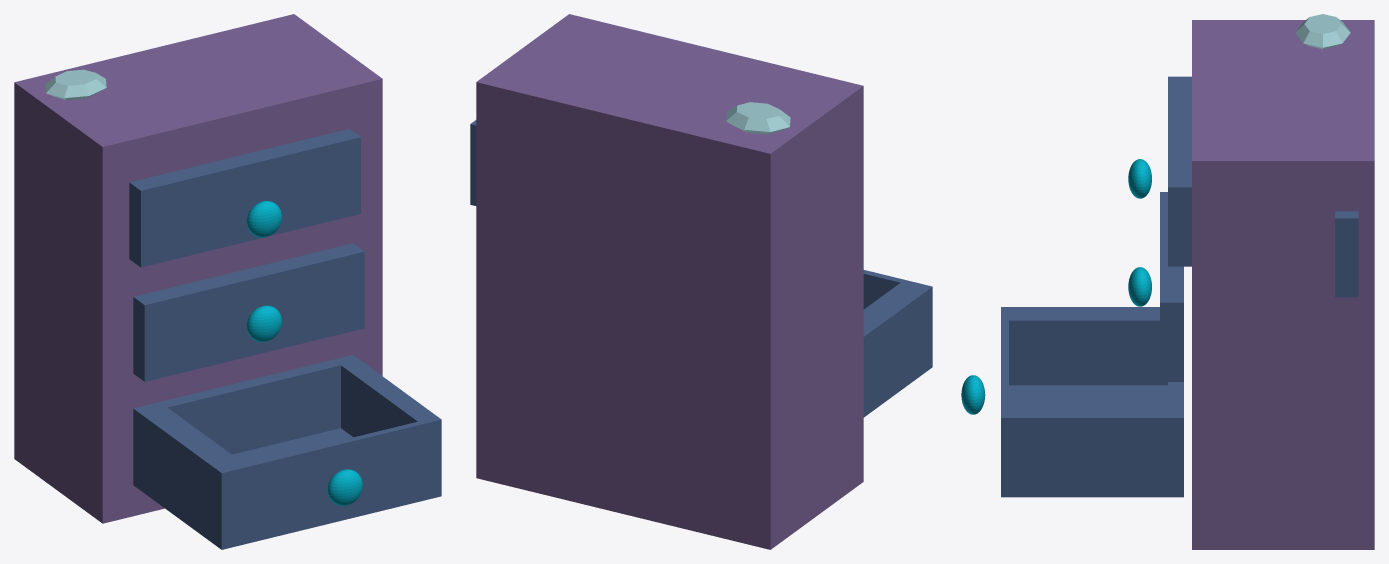
File: Side Table.glb
3 renders of one model, left to right at view 1: azimuth 30°, elevation 25°; view 2: azimuth 150°, elevation 25°; view 3: azimuth 270°, elevation 25°, orthographic. The views are drawn at different scales.
Parts seen in each view (by area): view 1: Mesh_Mesh_head_geo.001_lambert2SG.001; view 2: Mesh_Mesh_head_geo.001_lambert2SG.001; view 3: Mesh_Mesh_head_geo.001_lambert2SG.001.
Boxes of the visible parts, bbox=[...] form: Mesh_Mesh_head_geo.001_lambert2SG.001: bbox=[14, 14, 441, 549]; Mesh_Mesh_head_geo.001_lambert2SG.001: bbox=[470, 14, 932, 549]; Mesh_Mesh_head_geo.001_lambert2SG.001: bbox=[961, 14, 1374, 549].
Size of the model in its own units: 44 by 56 by 52.
